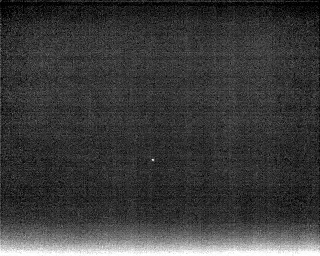BIRD: (149, 155, 157, 165)
